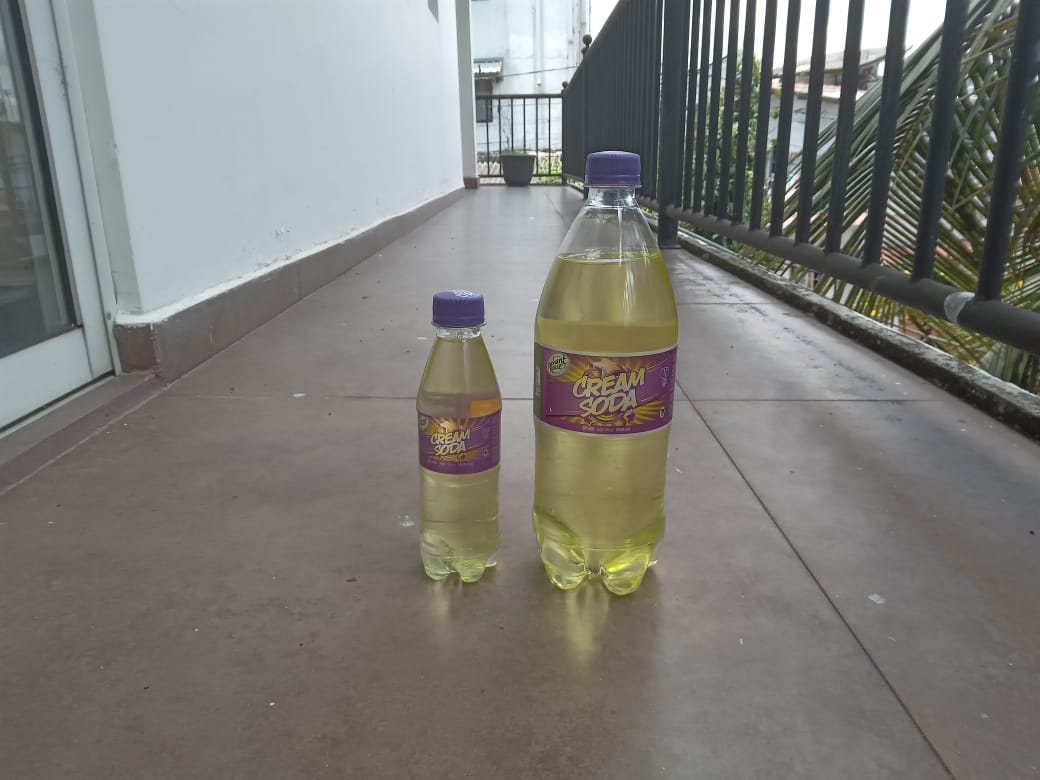M: (531, 151, 680, 604)
Xs: (413, 292, 504, 586)
